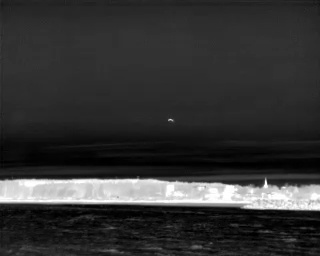BIRD: (166, 116, 176, 125)
